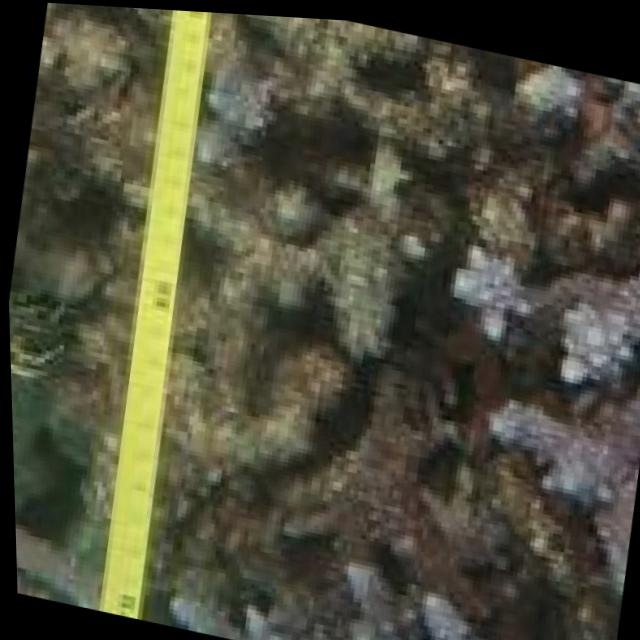Bleached Coral: (437, 227, 640, 399)
